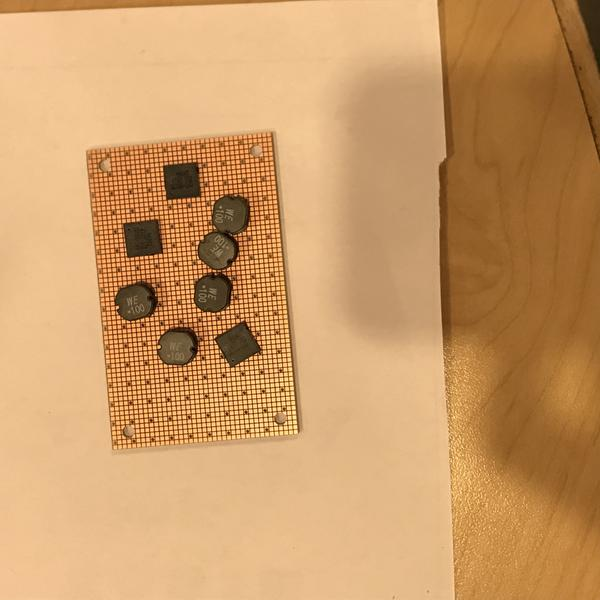board: (84, 130, 301, 452)
